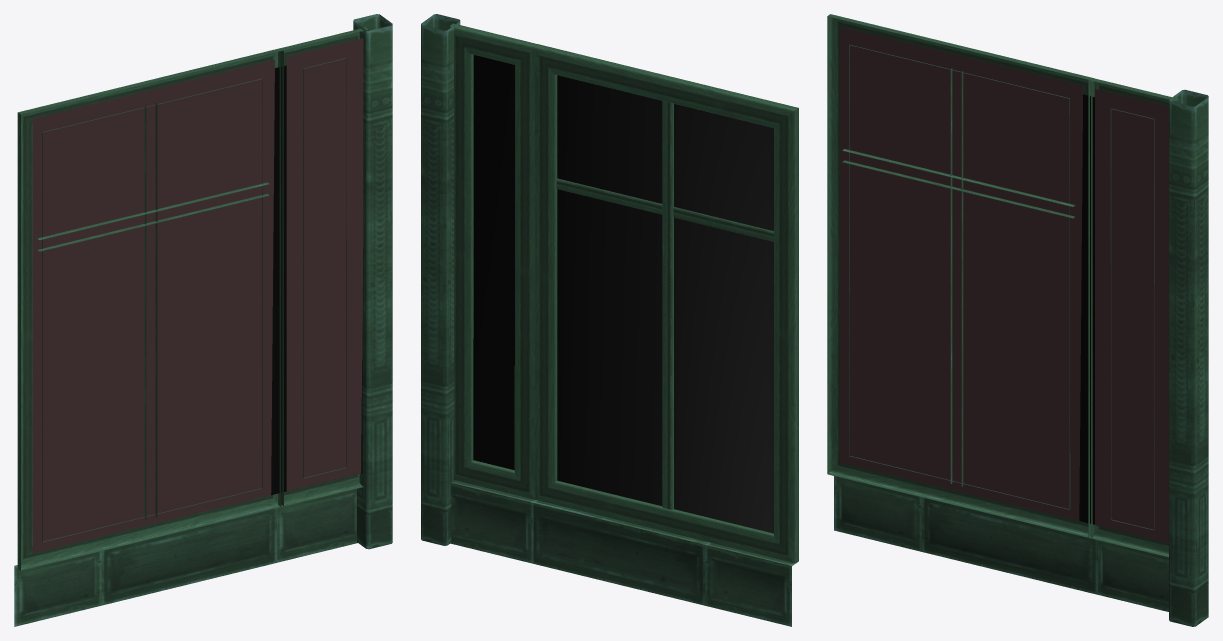
File: Shop_2_2_10 (16).fbx
The picture shows the model from 3 angles, left to right: view 1: azimuth 30°, elevation 25°; view 2: azimuth 150°, elevation 25°; view 3: azimuth 330°, elevation 25°; orthographic projection.
Parts seen in each view (by area): view 1: Shop_2_2_10__16_, Glass2; view 2: Shop_2_2_10__16_, Glass2; view 3: Shop_2_2_10__16_, Glass2.
Boxes of the visible parts, x1,y1,x2,y2 form: Shop_2_2_10__16_: (14, 14, 392, 626); Glass2: (271, 65, 362, 495); Shop_2_2_10__16_: (421, 14, 798, 626); Glass2: (473, 55, 773, 533); Shop_2_2_10__16_: (827, 14, 1208, 626); Glass2: (1079, 94, 1094, 524).
Bounding box in the file's own units: 253 × 340 × 18.17.
